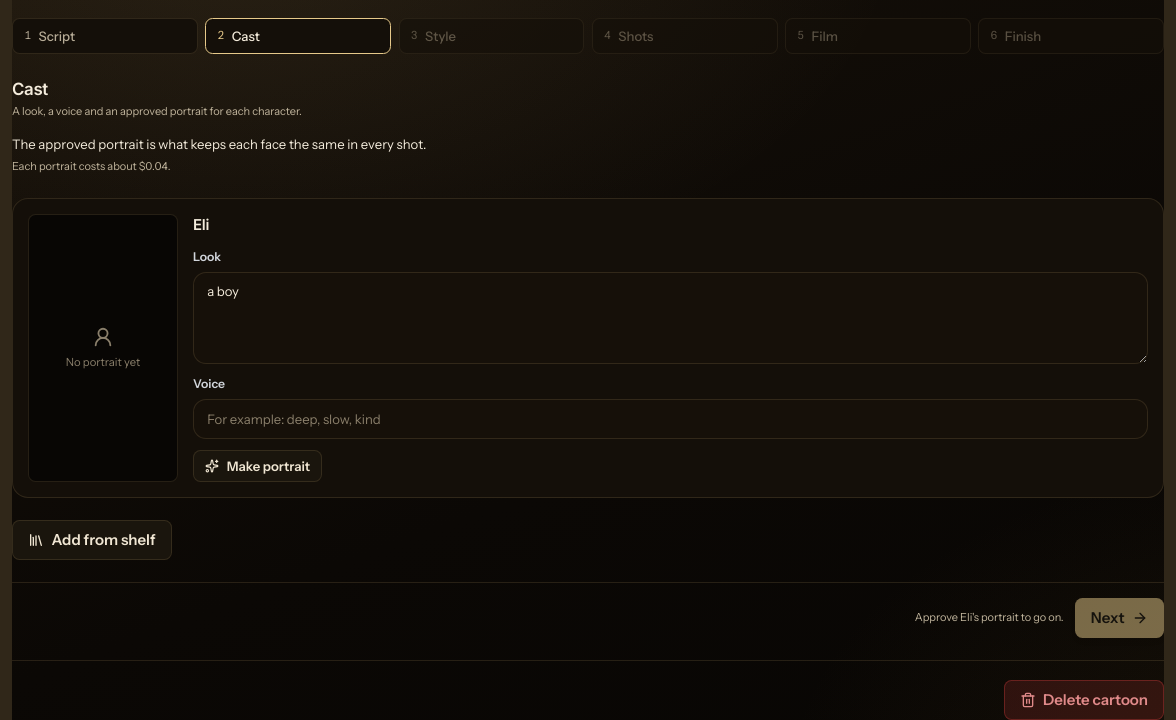
Test: CartoonPage › Delete refused for a paid clip still downloading shows why, beside the button
(page scrolled)
Step 1. Click the button "Delete cartoon" → point(1084, 700), box left=1004, top=680, right=1164, bottom=719
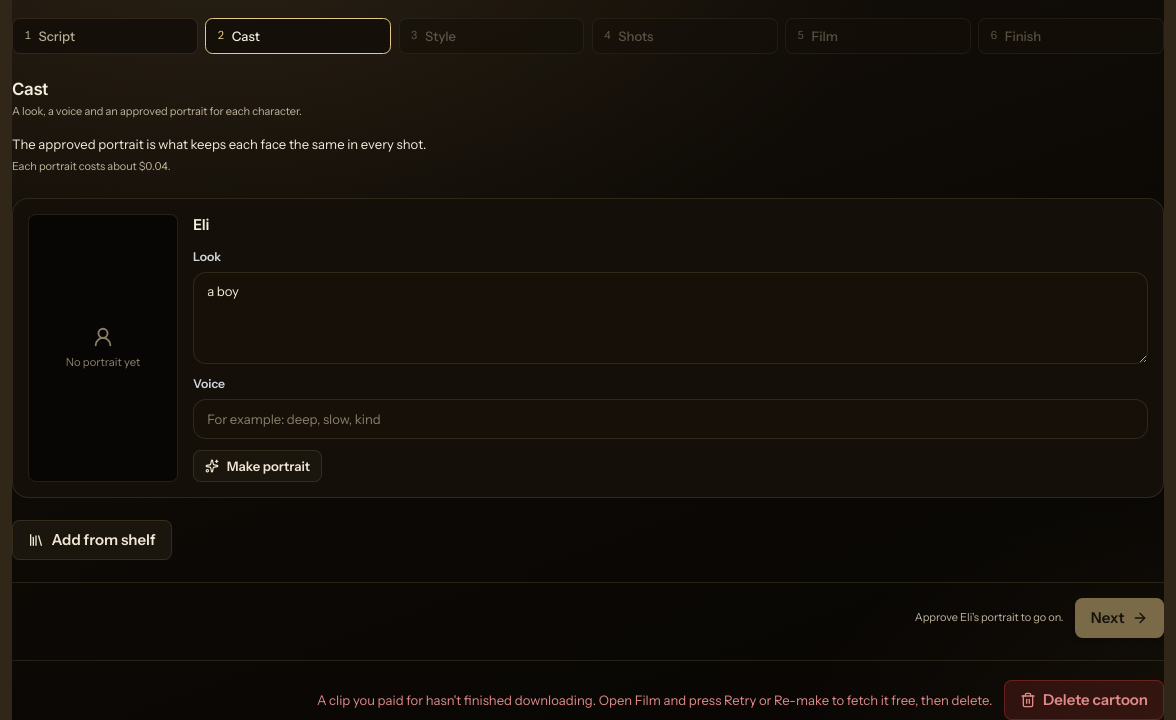
Result: the message shows "A clip you paid for hasn't finished downloading. Open Film and press Retry or Re-make to fetch it free, then delete." at left=317, top=692, right=992, bottom=708
